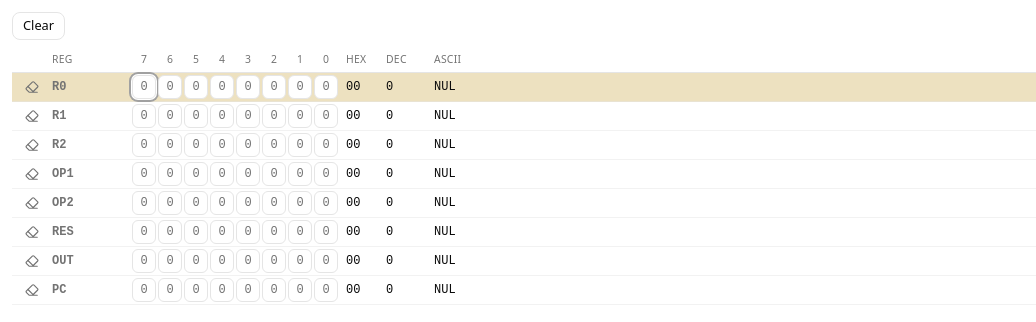
Test: RegisterGrid › a row's own Clear button clears just that register
The image size is (1036, 322).
Double-click the cell named "Register R0, bit 7, value 0" at point(326, 87), box [314, 75, 338, 99]
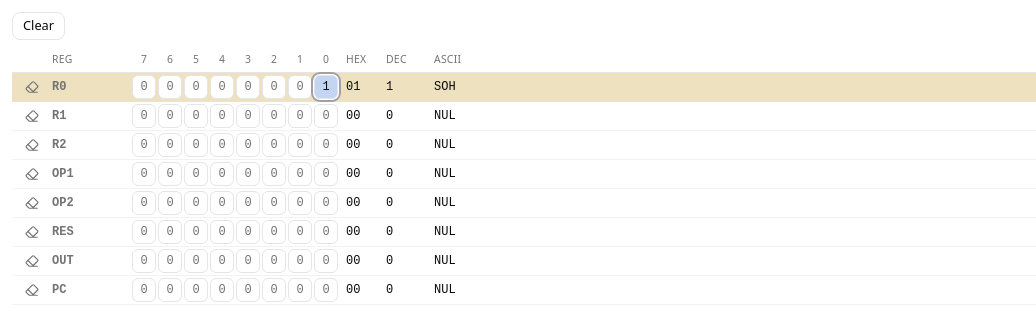
Result: the cell named "Register R0, bit 7, value 1" is shown at [314, 75, 338, 99]
Click the button named "Clear register R0" at point(32, 87), box [20, 75, 44, 99]
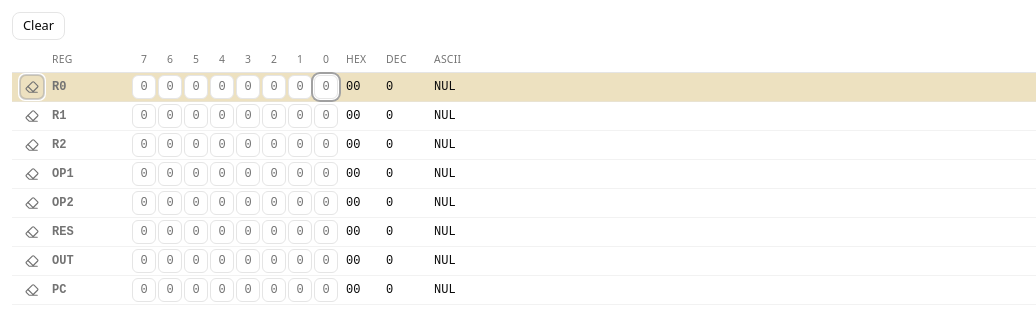
Result: the cell named "Register R0, bit 7, value 0" is shown at [314, 75, 338, 99]
